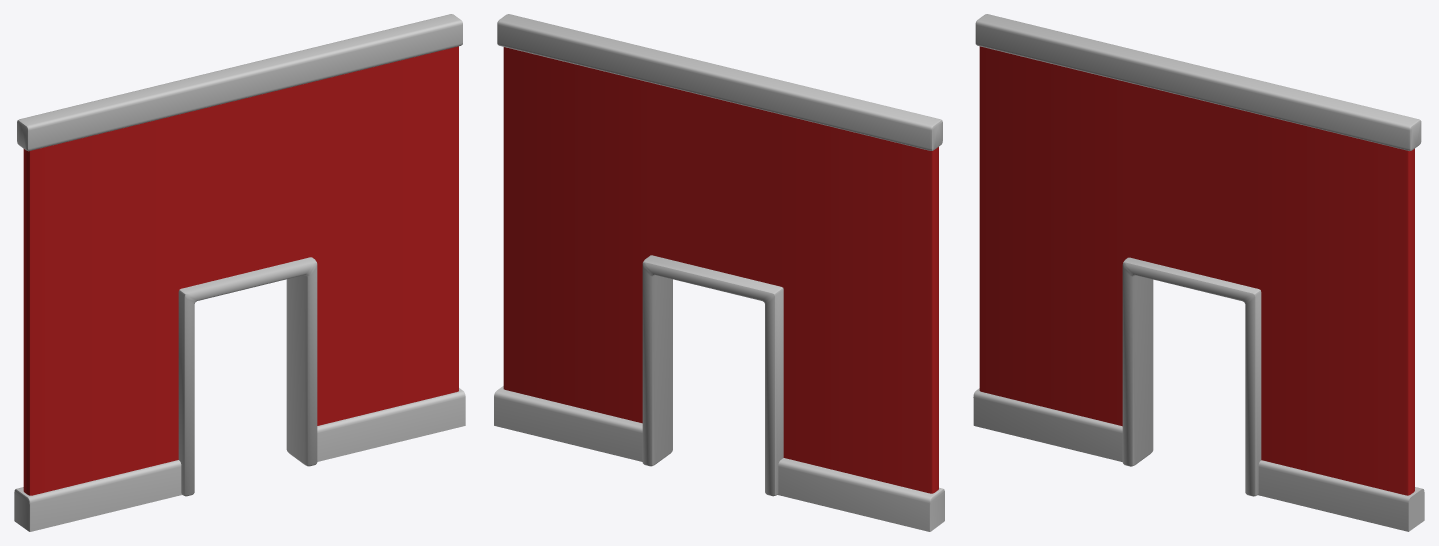
The model's file is SM_wall_door.fbx.
The picture shows the model from 3 angles, left to right: view 1: azimuth 30°, elevation 25°; view 2: azimuth 150°, elevation 25°; view 3: azimuth 330°, elevation 25°; orthographic projection.
Visible parts, largest first — view 1: Object057; view 2: Object057; view 3: Object057.
Part boxes in pixels (<box>): Object057: <box>14,14,465,531</box>; Object057: <box>494,14,944,531</box>; Object057: <box>973,14,1424,531</box>.
Bounding box in the file's own units: 190 × 168 × 16.88.
